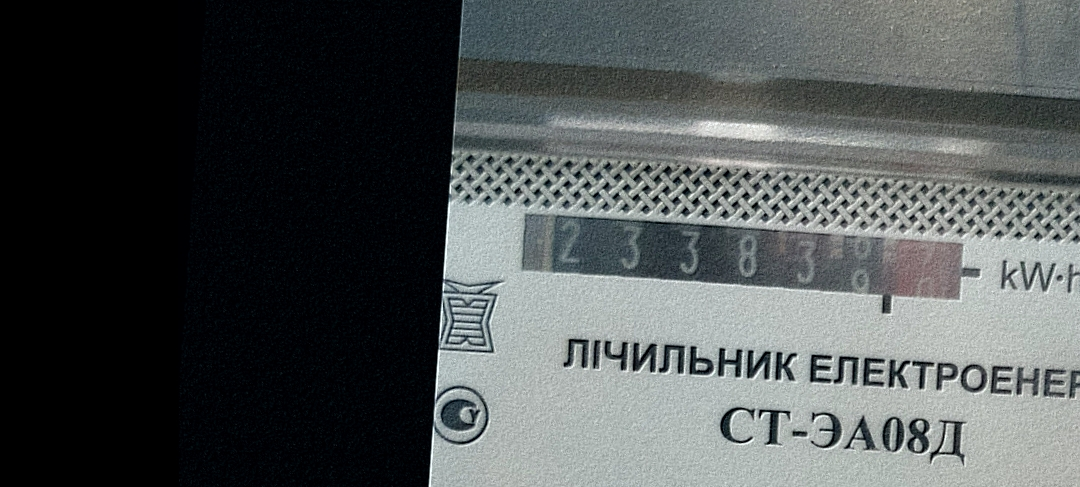0: (915, 274, 939, 301)
2: (558, 218, 586, 267)
3: (616, 221, 648, 272), (674, 226, 706, 277), (793, 238, 820, 285)
8: (733, 232, 764, 280), (851, 234, 876, 262)
9: (917, 237, 940, 268), (850, 266, 873, 296)
screen: (509, 202, 986, 324)
